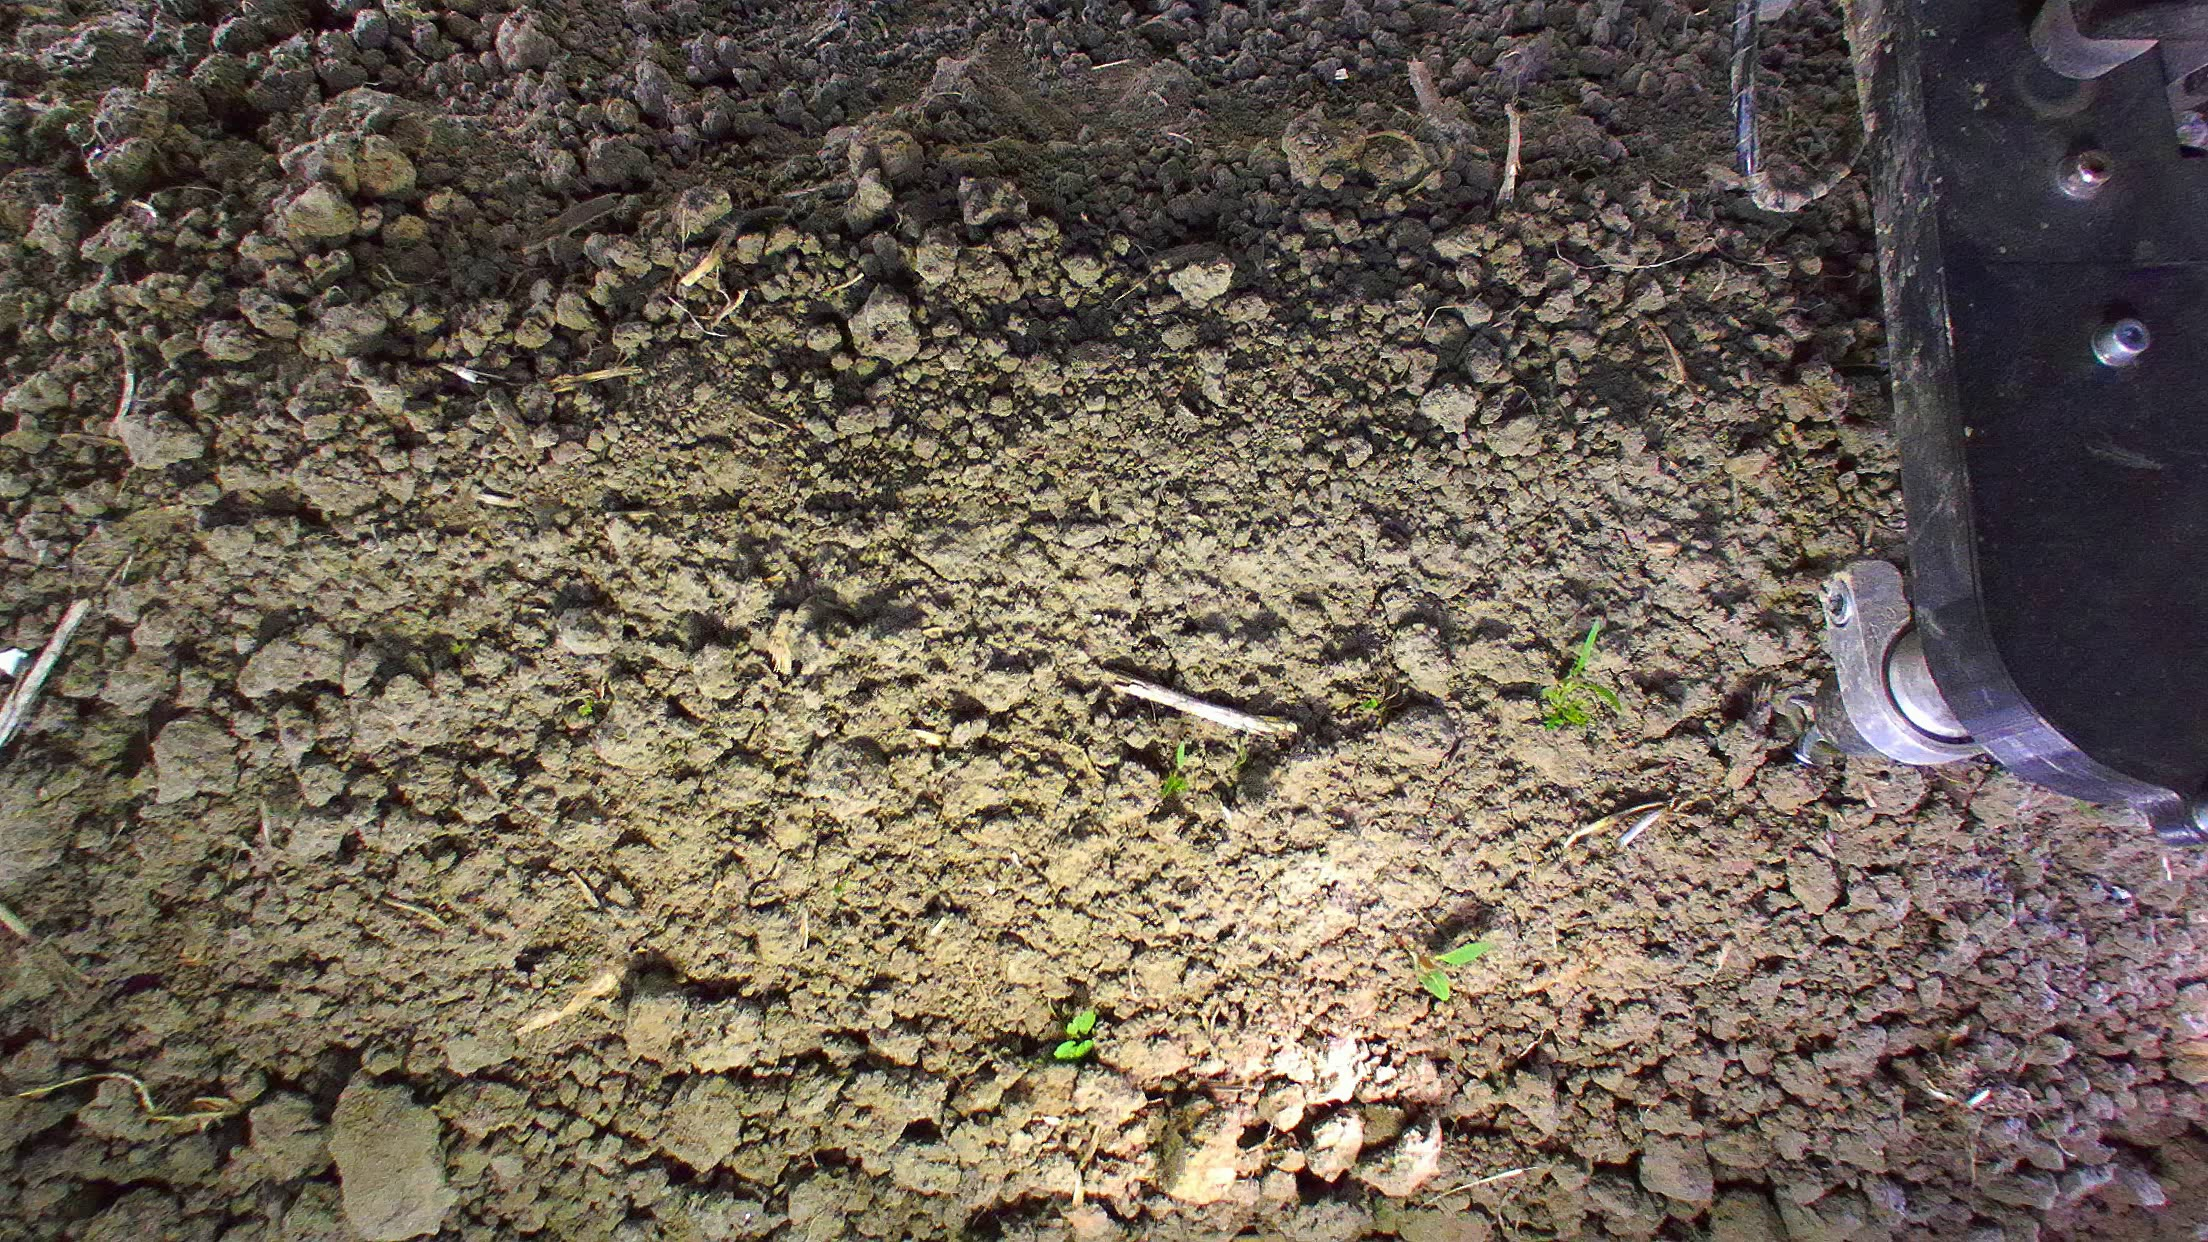Crop: (1530, 616, 1623, 732), (1159, 772, 1190, 798)
Weed: (1418, 939, 1489, 1011), (1049, 1008, 1099, 1071)
